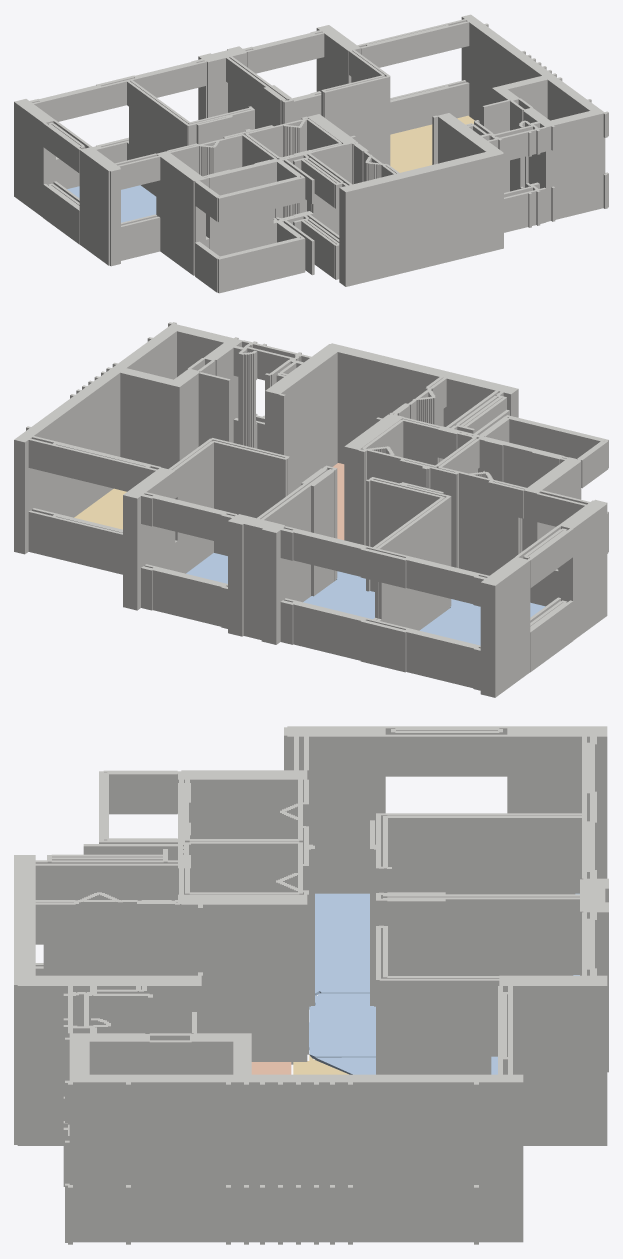
The picture shows the model from 3 angles, top to bottom: view 1: azimuth 30°, elevation 25°; view 2: azimuth 150°, elevation 25°; view 3: azimuth 270°, elevation 25°; orthographic projection. The views are drawn at different scales.
Parts seen in each view (by area): view 1: walls, room:living:3, room:bedroom:2; view 2: walls, room:bedroom:0, room:bedroom:2, room:living:3, room:bedroom:1, room:kitchen:6; view 3: walls, room:bedroom:2, room:bedroom:0, room:bedroom:1.
Boxes of the visible parts, box(x1,y1,x2,y2) form: walls: box(14, 14, 608, 293); room:living:3: box(390, 115, 474, 172); room:bedroom:2: box(67, 185, 156, 222); walls: box(14, 322, 608, 697); room:bedroom:0: box(303, 571, 374, 619); room:bedroom:2: box(420, 599, 545, 645); room:living:3: box(74, 488, 126, 529); room:bedroom:1: box(186, 553, 227, 583); room:kitchen:6: box(333, 463, 344, 540); walls: box(14, 726, 608, 1244); room:bedroom:2: box(315, 893, 579, 995); room:bedroom:0: box(309, 975, 579, 1059); room:bedroom:1: box(315, 1056, 497, 1074).
Bounding box in the file's own units: 13.46 × 2.8 × 9.44.
